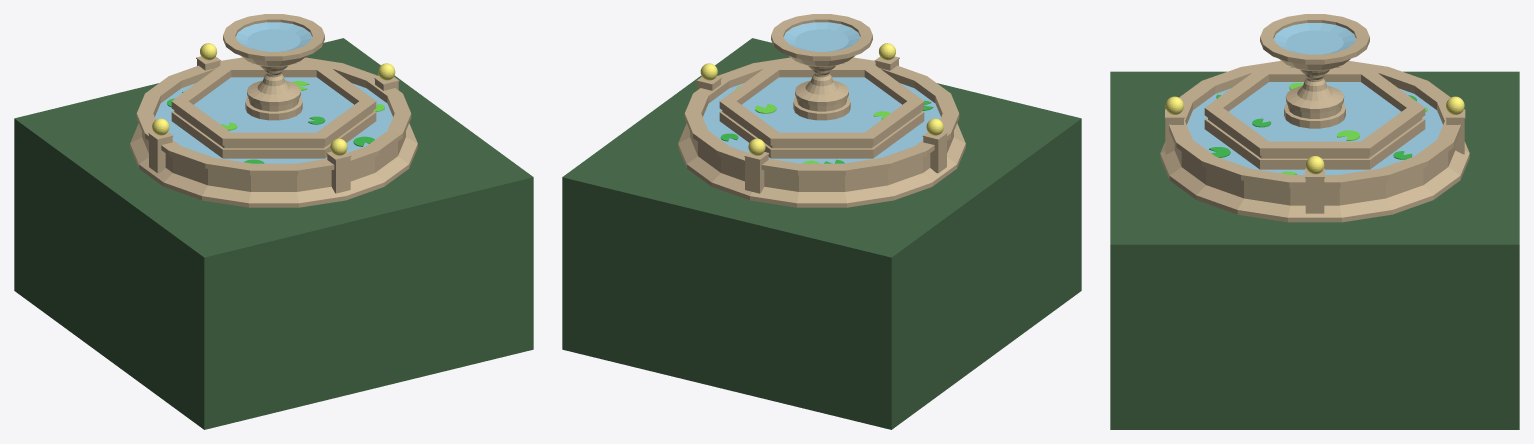
The model's file is Fountain.glb.
3 views of the same model, side by side, from view 1: azimuth 30°, elevation 25°; view 2: azimuth 150°, elevation 25°; view 3: azimuth 270°, elevation 25° (orthographic). The views are drawn at different scales.
Parts seen in each view (by area): view 1: Cube.004, Cylinder.010, Cylinder, Cylinder.001, water, outer water, INNERwater, Cube.003, Cube.001; view 2: Cube.004, Cylinder.010, Cylinder, Cylinder.001, water, outer water, INNERwater, Cube.002, Cube.001; view 3: Cube.004, Cylinder.010, Cylinder, Cylinder.001, water, outer water, INNERwater, Cube, Cube.002, Cube.003.
Part boxes in pixels (<box>): Cube.004: <box>14,38,533,429</box>; Cylinder.010: <box>130,57,417,207</box>; Cylinder: <box>171,63,376,158</box>; Cylinder.001: <box>223,14,324,120</box>; water: <box>194,77,353,132</box>; outer water: <box>155,83,392,163</box>; INNERwater: <box>236,22,311,51</box>; Cube.003: <box>326,152,351,193</box>; Cube.001: <box>148,131,173,173</box>; Cube.004: <box>562,38,1081,429</box>; Cylinder.010: <box>678,57,965,207</box>; Cylinder: <box>719,63,924,158</box>; Cylinder.001: <box>771,14,872,120</box>; water: <box>742,77,901,132</box>; outer water: <box>703,83,940,163</box>; INNERwater: <box>784,22,859,51</box>; Cube.002: <box>744,152,769,193</box>; Cube.001: <box>922,131,947,173</box>; Cube.004: <box>1110,71,1519,429</box>; Cylinder.010: <box>1160,61,1469,222</box>; Cylinder: <box>1204,67,1425,169</box>; Cylinder.001: <box>1260,14,1369,128</box>; water: <box>1228,82,1401,141</box>; outer water: <box>1187,88,1442,174</box>; INNERwater: <box>1274,23,1355,54</box>; Cube: <box>1305,168,1324,213</box>; Cube.002: <box>1445,109,1465,154</box>; Cube.003: <box>1165,109,1184,154</box>.
Size of the model in its own units: 2 by 1.65 by 2.
